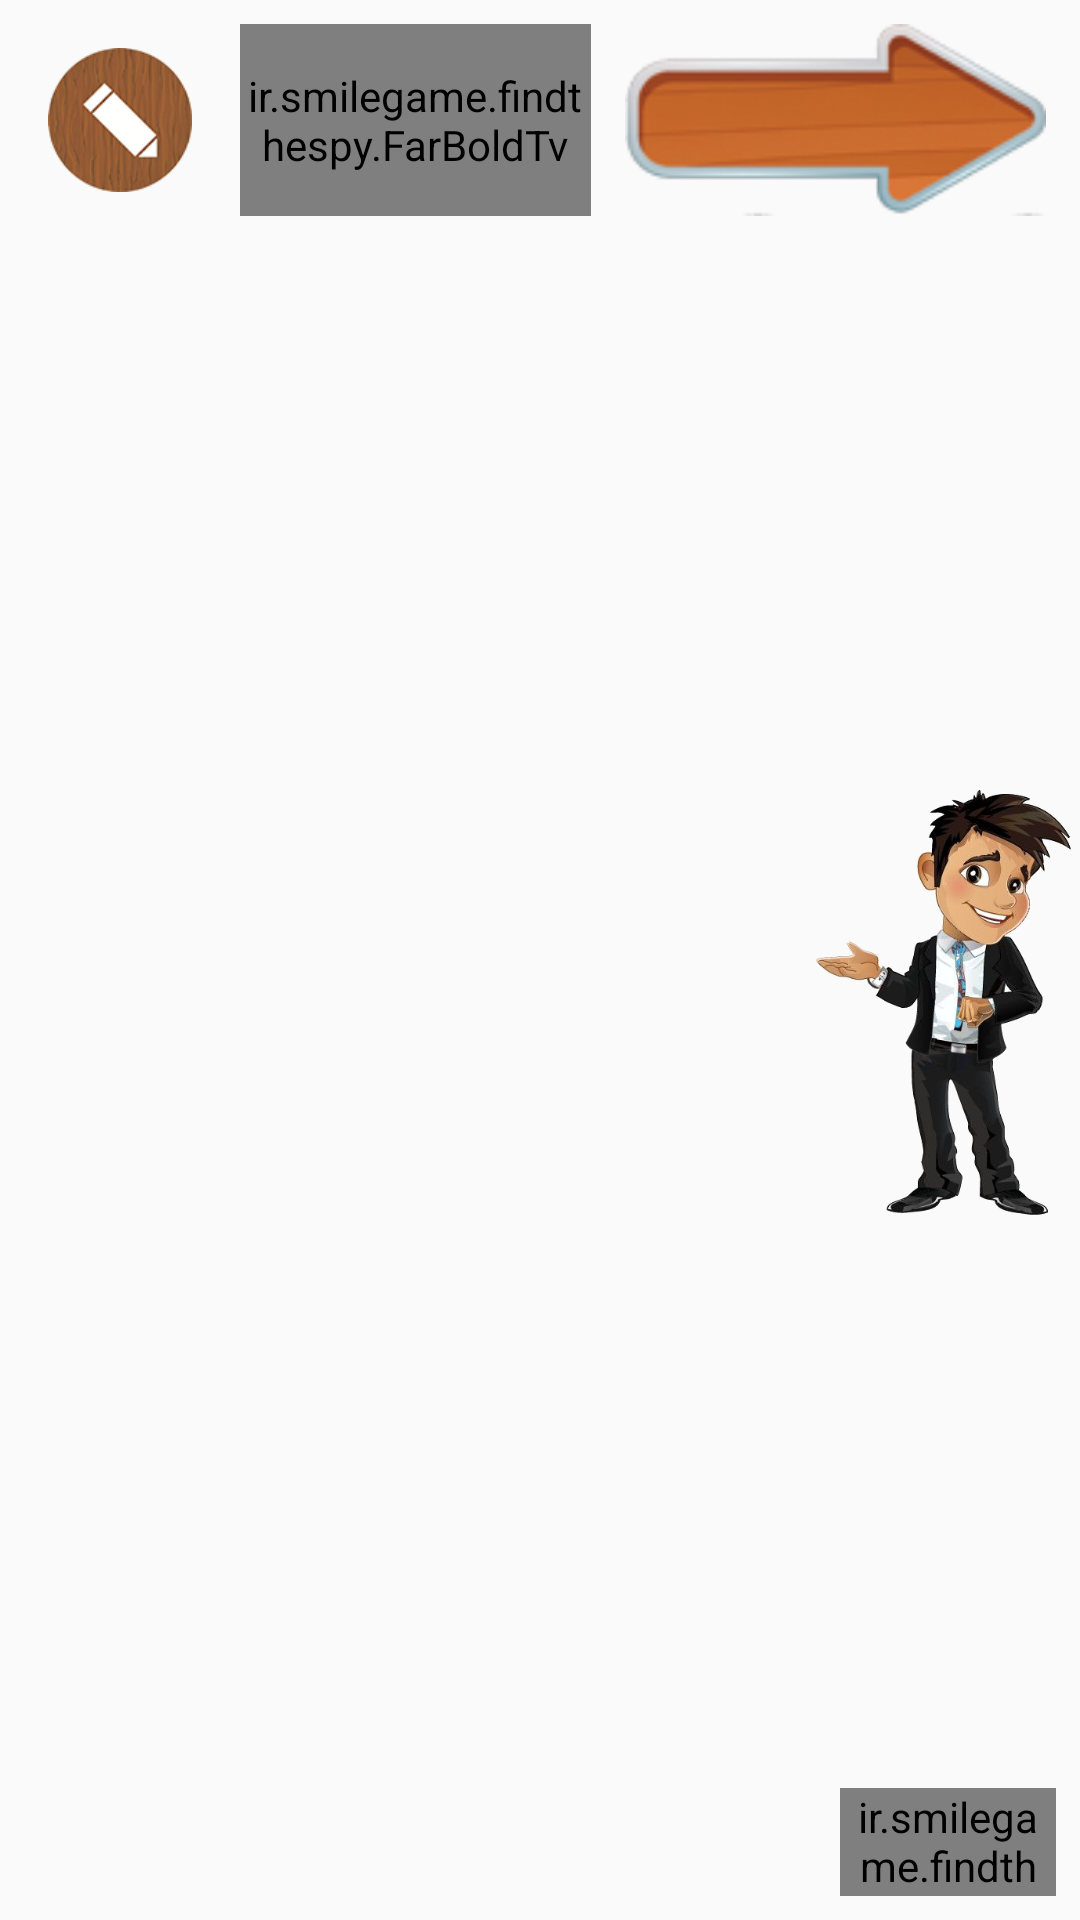

Point at icon controls on the screen. Image size 1080×1920, points as (x=x, y=y).
edit: (x=120, y=120)
